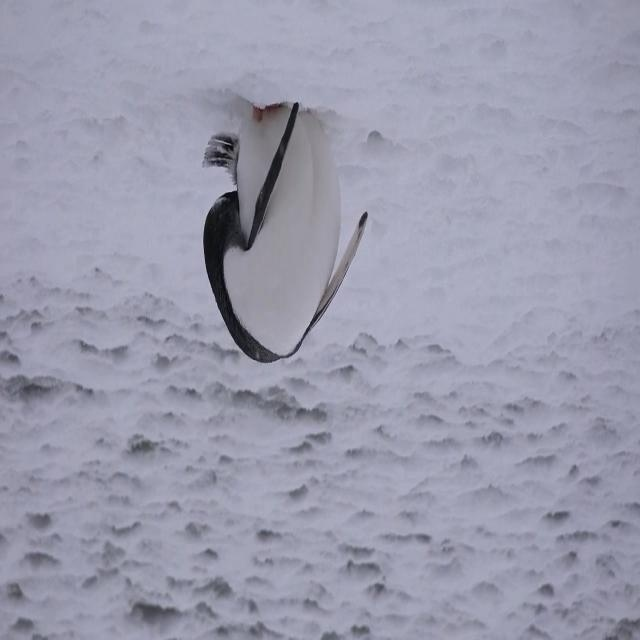penguin: (202, 95, 368, 362)
